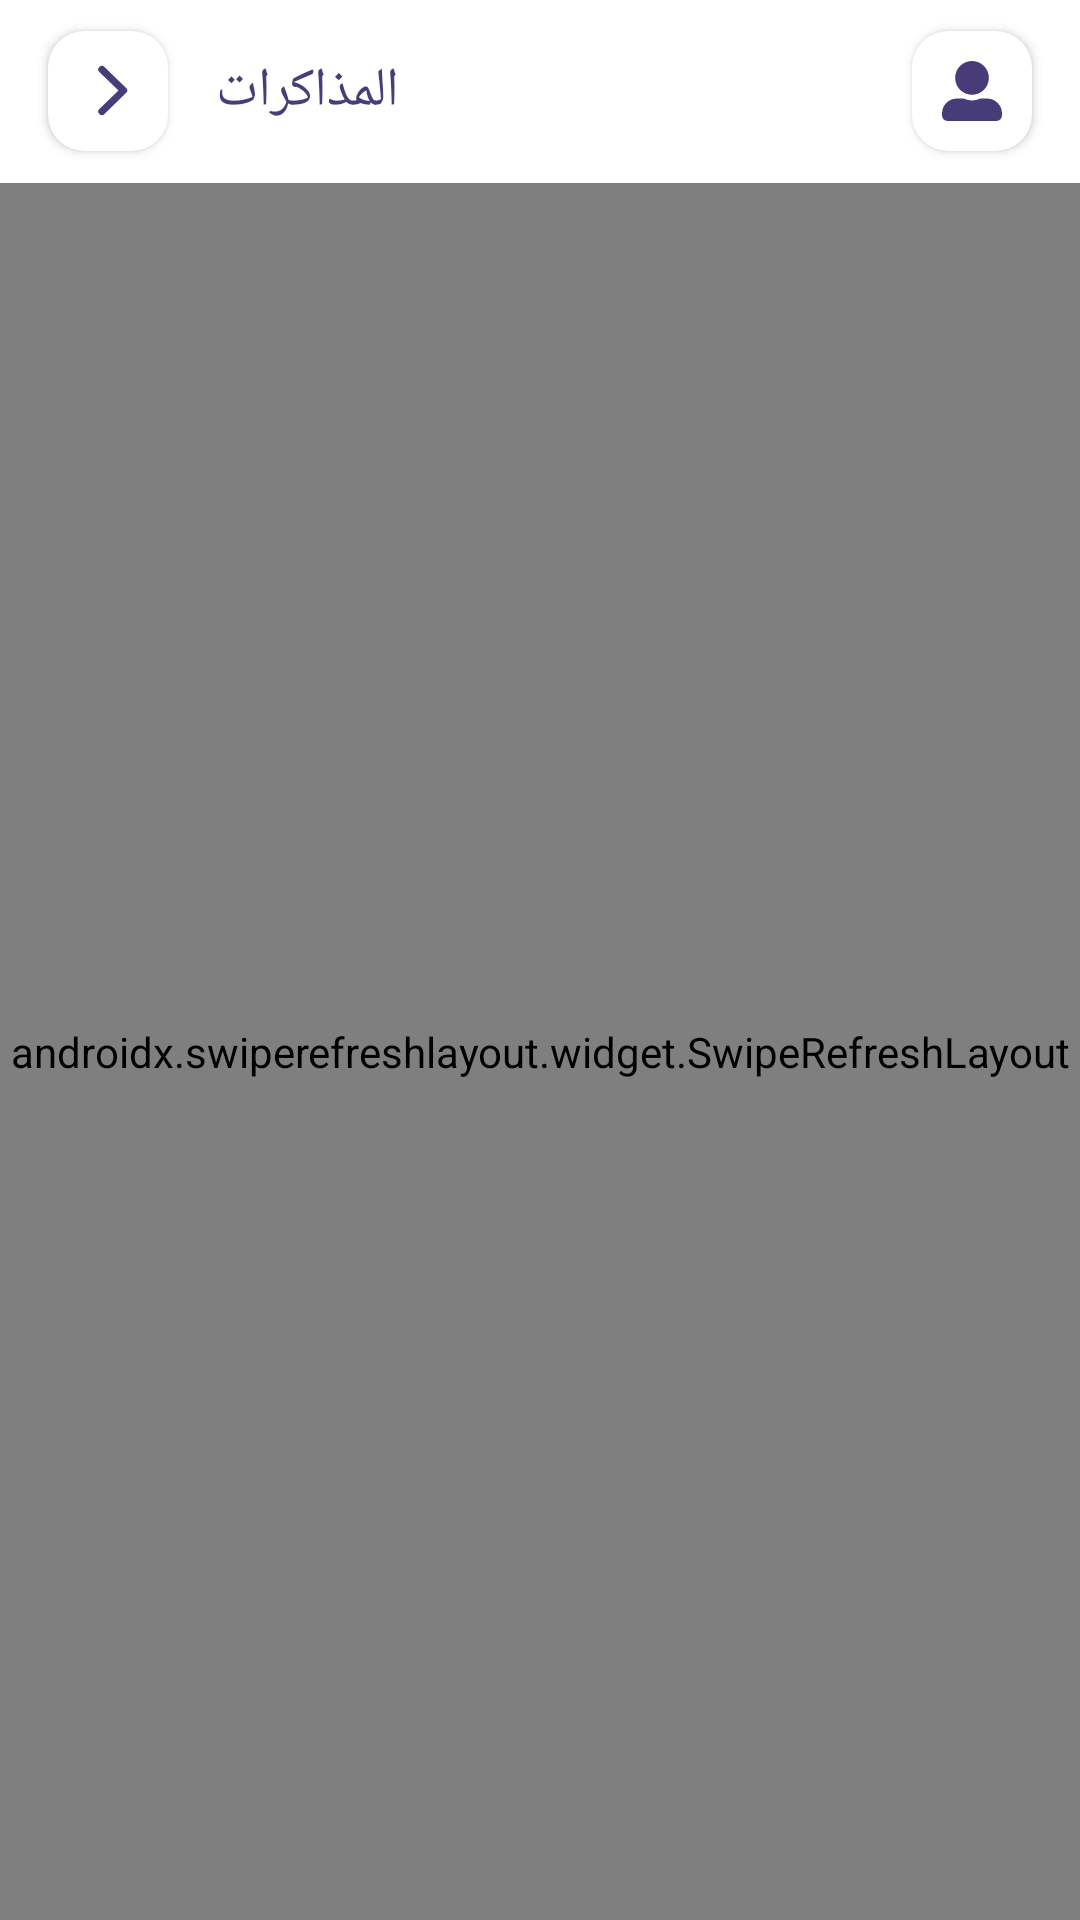

Icon bounding boxes for this 1080w x 1920h phone screenshot, format (x1, y1, x2, y2):
profile: (942, 61, 1002, 121)
